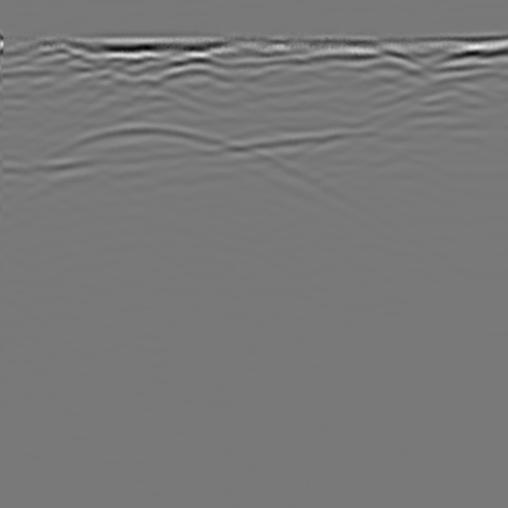hyperbola: (8, 108, 314, 210)
